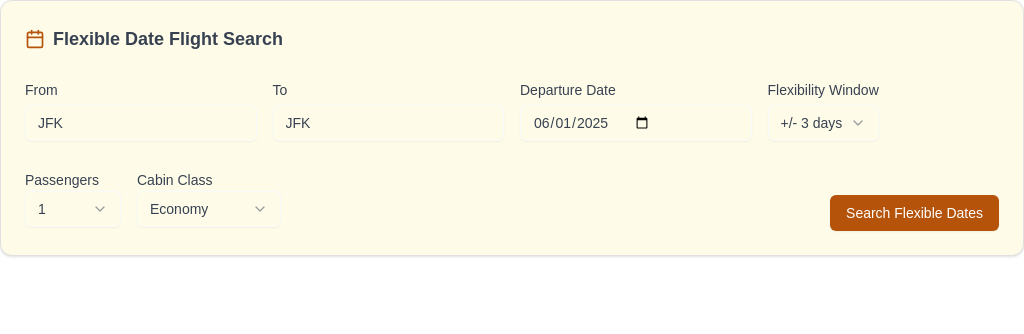
it: DateFlexSearch › shows error when origin and destination are the same
Click the button "Search Flexible Dates" at (914, 213), box [830,195,999,231]
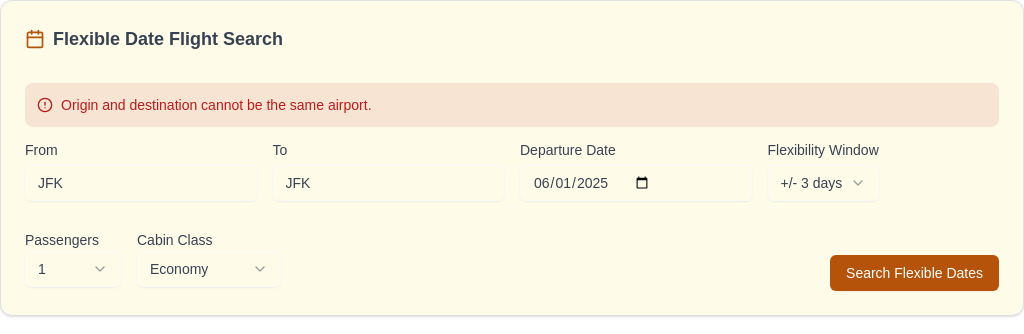
Result: the message reads "Origin and destination cannot be the same airport." at [61,97,372,113]
